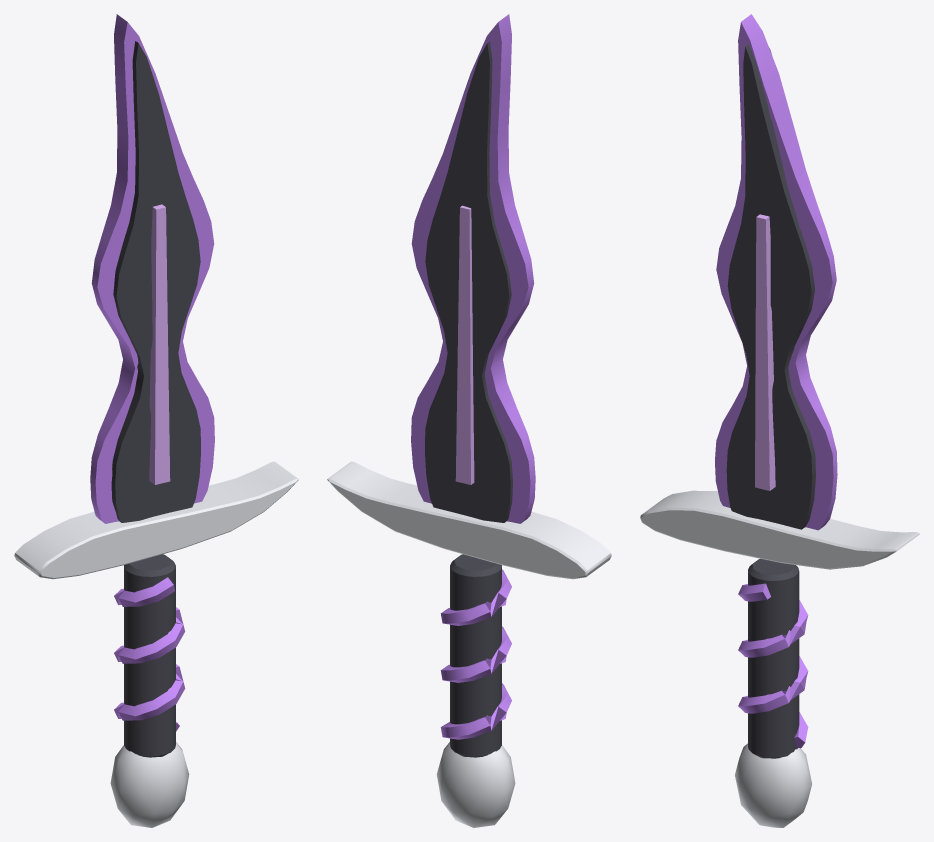
File: gen_dagger.fbx
3 renders of one model, left to right at view 1: azimuth 30°, elevation 25°; view 2: azimuth 150°, elevation 25°; view 3: azimuth 330°, elevation 25°, orthographic.
Parts seen in each view (by area): view 1: dagger; view 2: dagger; view 3: dagger.
Boxes of the visible parts, <box> form: dagger: <box>14,14,298,827</box>; dagger: <box>327,14,611,827</box>; dagger: <box>640,14,919,827</box>.
Bounding box in the file's own units: 0.1885 × 0.5638 × 0.0431.
